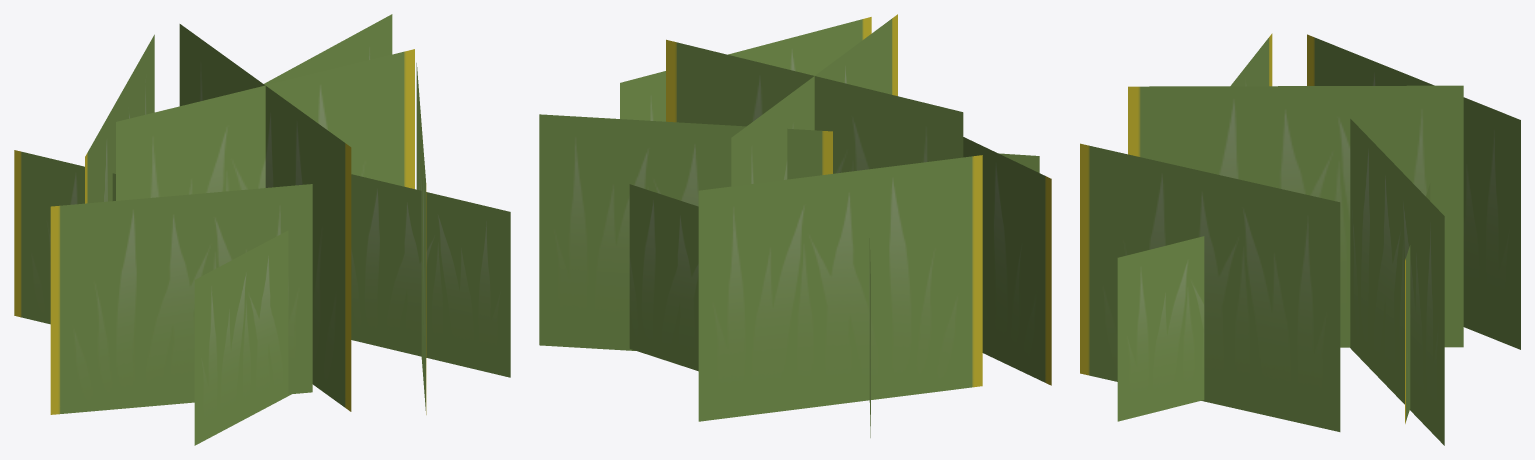
File: Grass03_2.fbx
3 renders of one model, left to right at view 1: azimuth 30°, elevation 25°; view 2: azimuth 150°, elevation 25°; view 3: azimuth 270°, elevation 25°, orthographic.
Parts seen in each view (by area): view 1: Grass03_2_LOD0; view 2: Grass03_2_LOD0; view 3: Grass03_2_LOD0.
Boxes of the visible parts, box(x1,y1,x2,y2) form: Grass03_2_LOD0: box(14, 14, 510, 445); Grass03_2_LOD0: box(539, 14, 1051, 437); Grass03_2_LOD0: box(1080, 33, 1520, 445).
Size of what is drawn, in the model's own units: 216 by 128 by 194.
